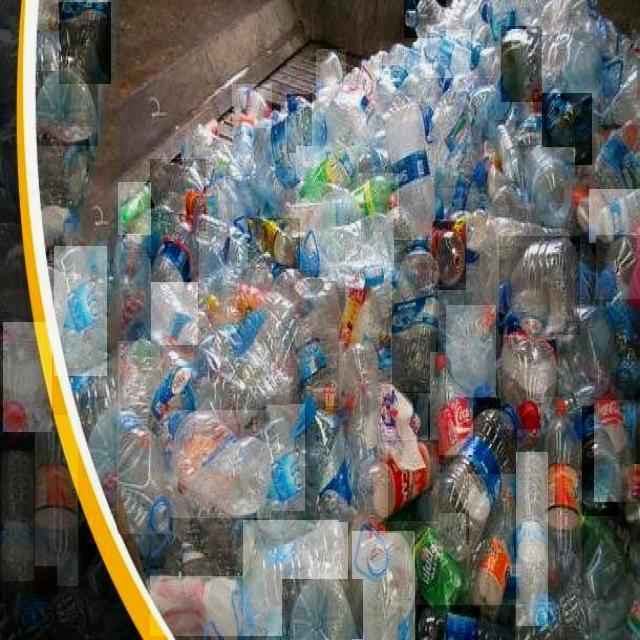defected: (243, 520, 348, 636), (170, 411, 271, 518), (340, 343, 390, 522), (499, 236, 580, 335), (295, 403, 363, 513), (290, 276, 345, 404), (392, 240, 438, 393), (54, 246, 107, 376), (352, 530, 415, 639), (118, 412, 172, 536), (501, 326, 558, 429), (150, 578, 243, 638), (295, 214, 394, 270), (584, 541, 640, 640), (437, 92, 490, 190), (34, 72, 98, 148), (282, 579, 363, 639), (445, 305, 495, 397), (151, 214, 199, 306), (296, 146, 359, 216), (594, 400, 636, 502), (59, 2, 111, 84), (266, 405, 305, 511), (150, 159, 206, 231), (582, 406, 618, 516), (526, 147, 575, 227), (542, 93, 592, 165), (118, 341, 160, 419), (496, 120, 534, 205), (501, 26, 542, 102), (151, 282, 198, 345), (596, 235, 640, 299), (589, 189, 640, 243), (248, 218, 300, 269), (421, 30, 471, 78), (432, 221, 466, 290), (350, 172, 399, 218), (601, 70, 640, 125), (381, 42, 418, 95), (232, 84, 272, 128), (118, 182, 151, 235), (404, 0, 446, 38), (288, 94, 313, 153), (316, 49, 346, 98), (233, 120, 255, 174)
good: (428, 398, 517, 545), (541, 397, 583, 586), (35, 415, 78, 586), (469, 474, 519, 618), (385, 102, 437, 238), (401, 513, 466, 620), (361, 440, 439, 521), (516, 452, 548, 626), (4, 322, 53, 432), (430, 352, 473, 455), (3, 452, 35, 582), (6, 566, 57, 640), (416, 605, 515, 640)
